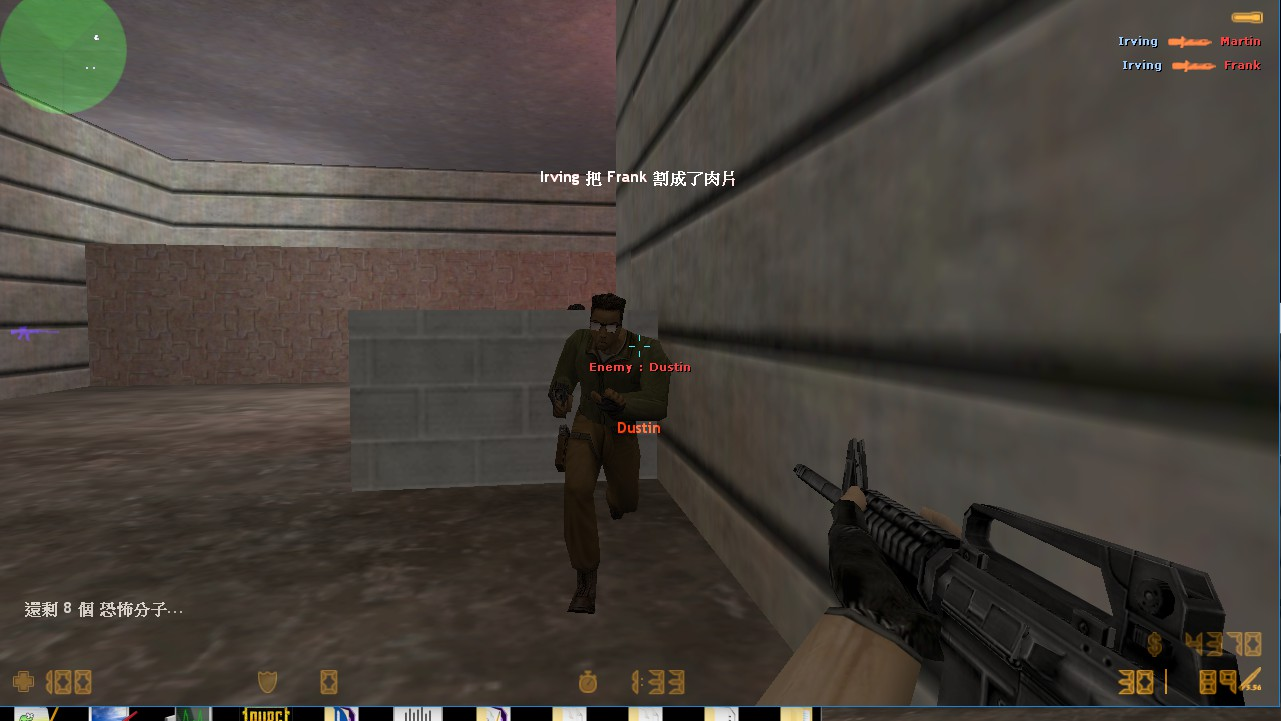person: (540, 291, 670, 632)
